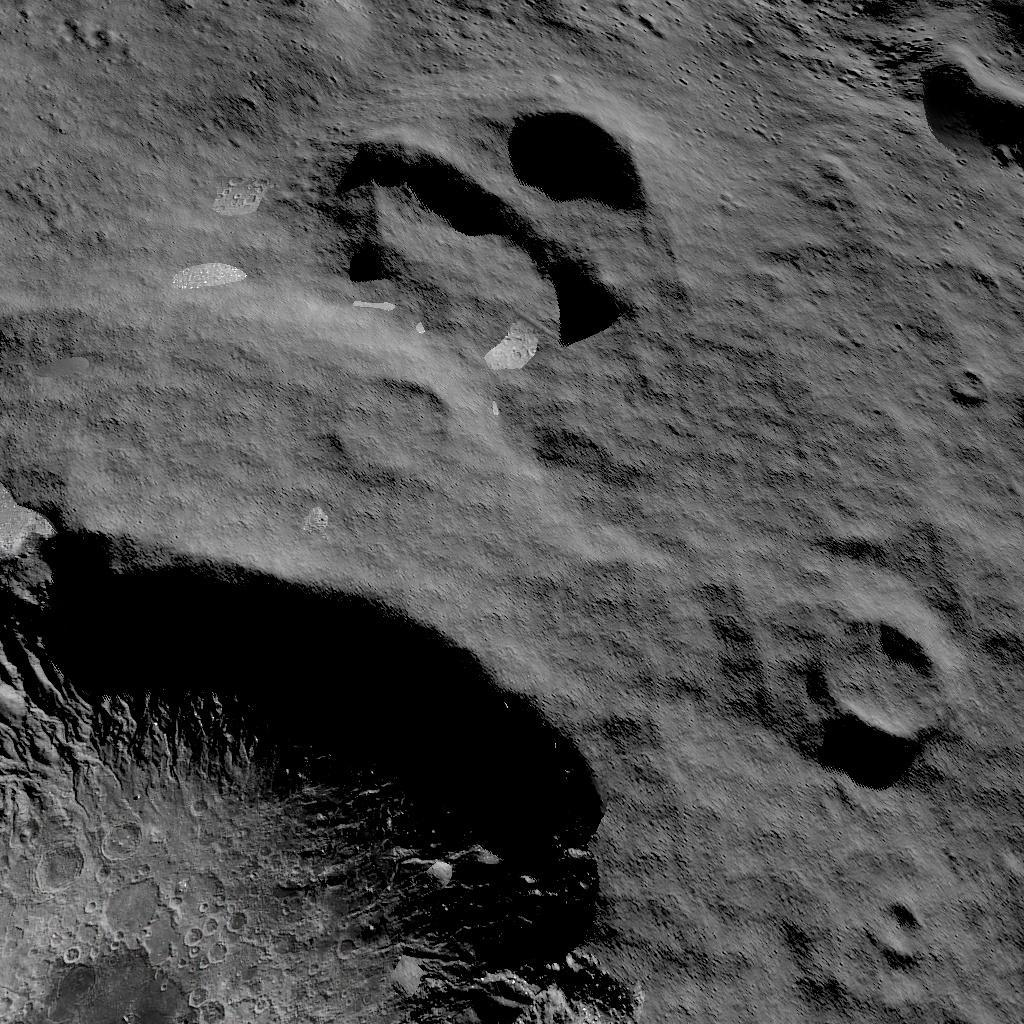Crater: (0, 508, 695, 1024), (323, 72, 698, 348), (788, 605, 946, 785), (326, 366, 462, 495)
Plan surface: (0, 0, 290, 495), (777, 170, 1024, 586)
